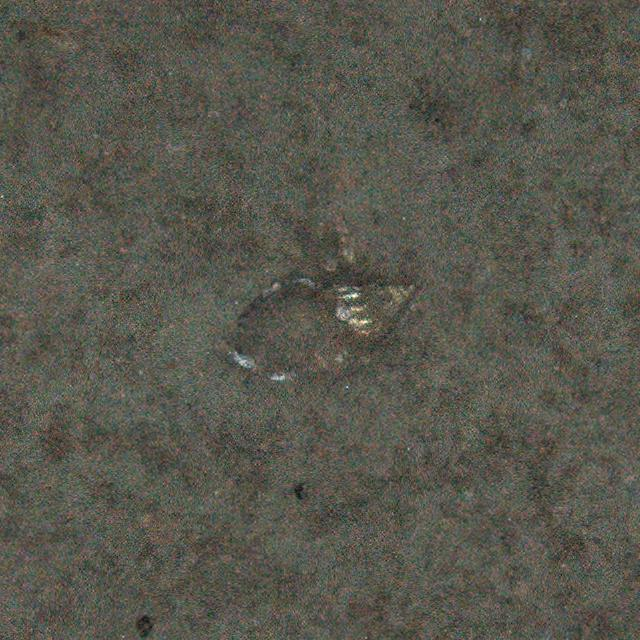whelk: (219, 276, 419, 382)
